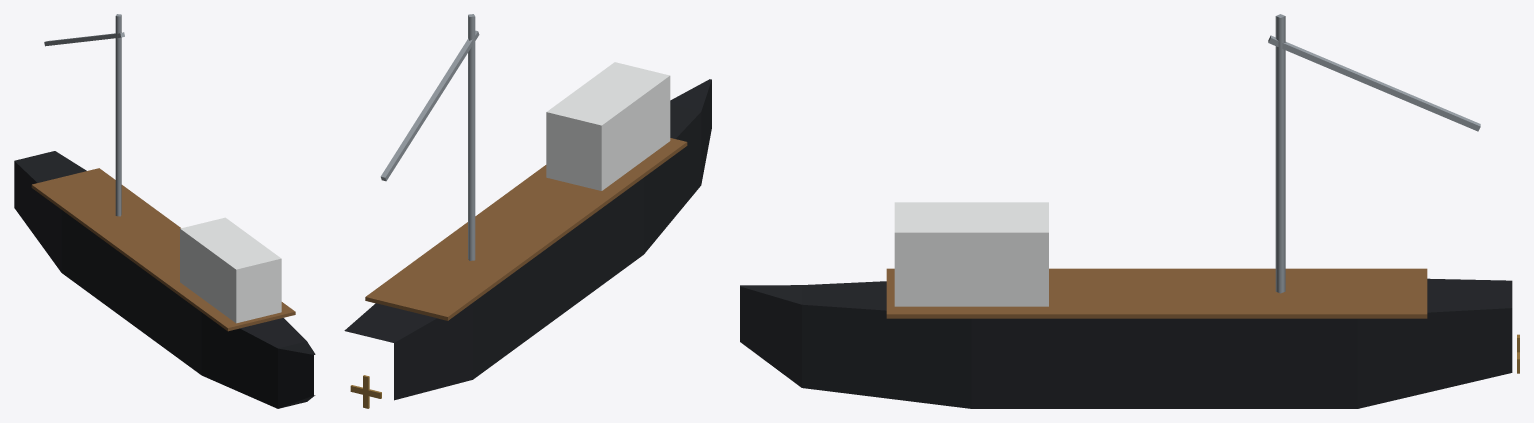
Rendered from veh_naval_fishing_a06_lod2.glb.
3 views of the same model, side by side, from view 1: azimuth 30°, elevation 25°; view 2: azimuth 150°, elevation 25°; view 3: azimuth 270°, elevation 25° (orthographic). The views are drawn at different scales.
Parts seen in each view (by area): view 1: body, crane; view 2: body, crane, propeller; view 3: body, crane.
Boxes of the visible parts, box(x1,y1,x2,y2) form: body: box(14, 14, 315, 408); crane: box(44, 32, 124, 46); body: box(344, 14, 711, 400); crane: box(380, 30, 479, 181); propeller: box(350, 375, 381, 408); body: box(740, 14, 1512, 408); crane: box(1268, 35, 1480, 131).
Size of the model in its own units: 1.76 by 6.72 by 12.73.
